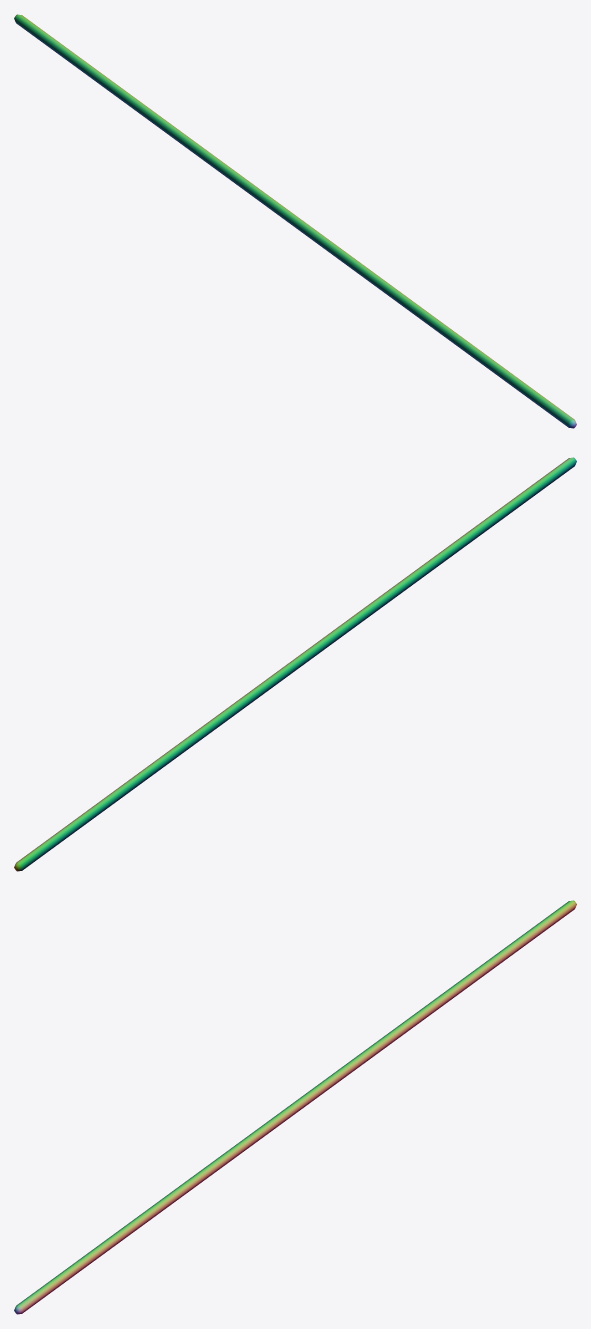
The model's file is zeometry-basic-shapes-line_v5.glb.
The picture shows the model from 3 angles, top to bottom: view 1: azimuth 30°, elevation 25°; view 2: azimuth 150°, elevation 25°; view 3: azimuth 330°, elevation 25°; orthographic projection.
Parts seen in each view (by area): view 1: Line_v5; view 2: Line_v5; view 3: Line_v5.
Part boxes in pixels (bbox=[...]): Line_v5: bbox=[14, 14, 576, 428]; Line_v5: bbox=[14, 457, 576, 871]; Line_v5: bbox=[14, 900, 576, 1314].
Size of the model in its own units: 0.00428 by 0.00429 by 0.5.
